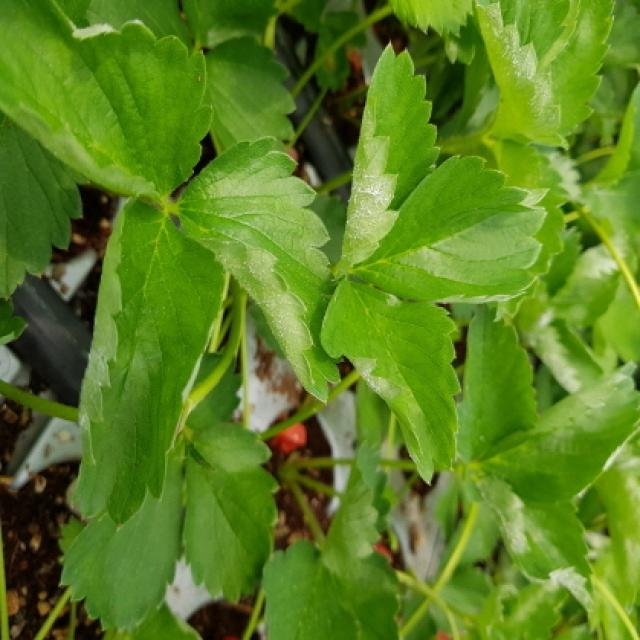Powdery Mildew Leaf: (65, 200, 228, 531), (173, 134, 340, 408), (2, 0, 216, 207), (319, 276, 462, 486), (334, 42, 445, 279), (475, 0, 619, 151), (466, 472, 598, 629), (548, 239, 635, 325), (525, 311, 608, 397)
